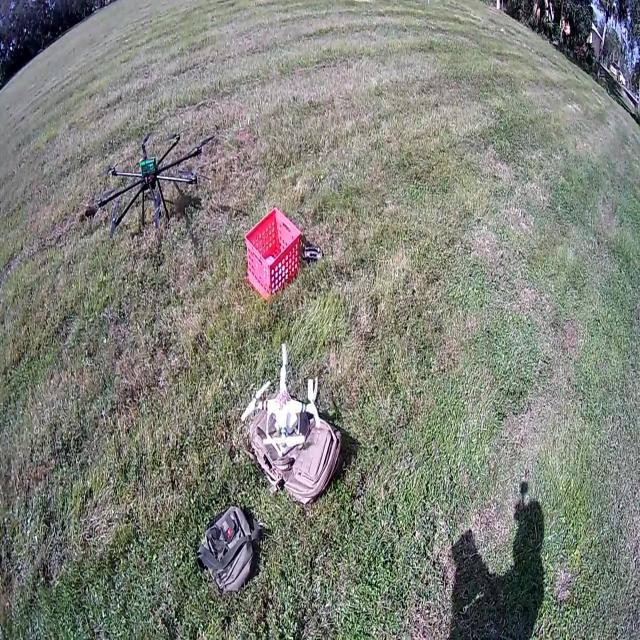drone: (72, 120, 223, 241)
